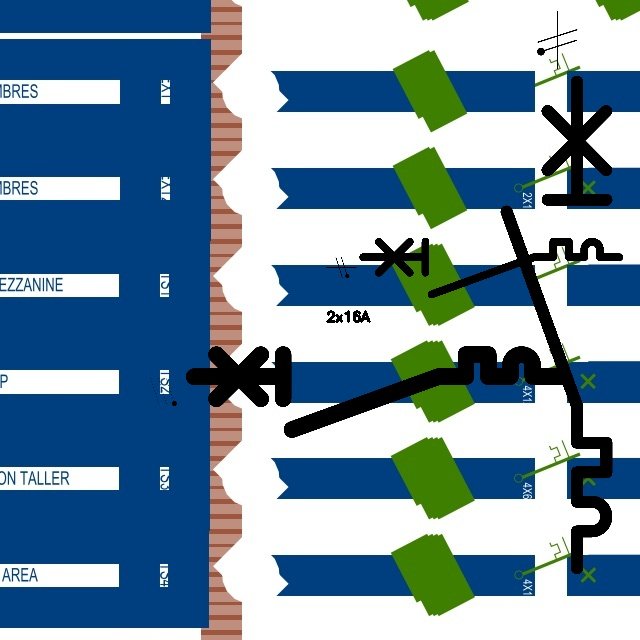interruptor_termomagnetico: (494, 68, 619, 580), (184, 345, 570, 439), (356, 235, 625, 301)
